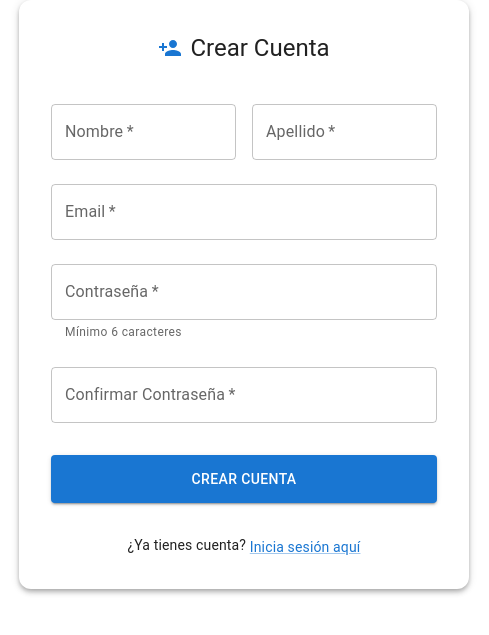
Register Component › muestra error si el email no es válido
Type "Juan" into the field labelled "Nombre *" at (144, 132), box x1=51 y1=104 x2=236 y2=160
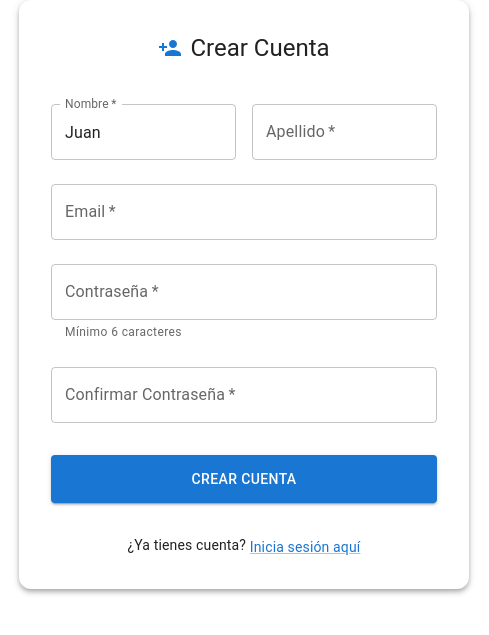
Type "Pérez" into the field labelled "Apellido *" at (344, 132), box x1=252 y1=104 x2=437 y2=160
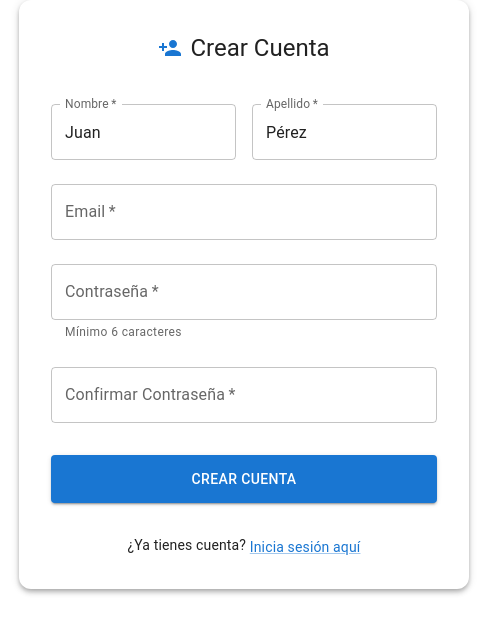
Type "juan@@com" into the field labelled "Email *" at (244, 212), box x1=51 y1=184 x2=437 y2=240
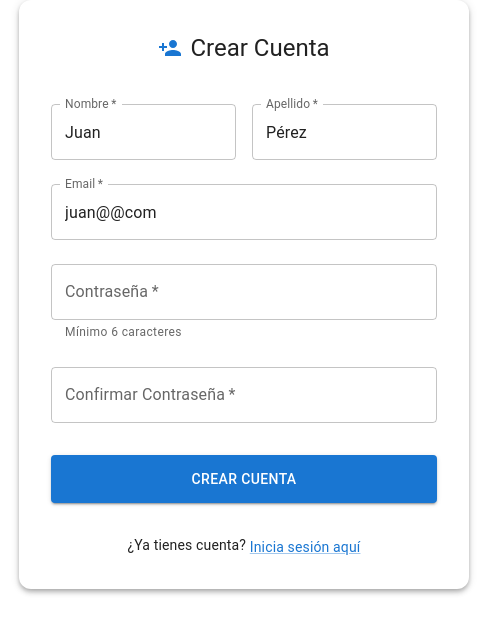
Type "123456" into the password field labelled "Contraseña *" at (244, 292), box x1=51 y1=264 x2=437 y2=320
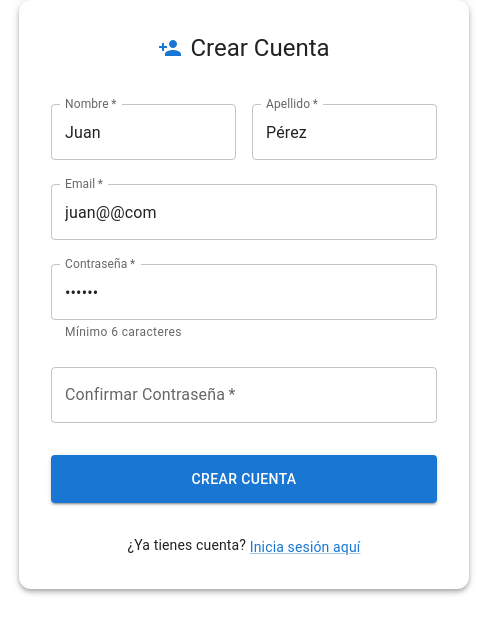
Type "123456" into the password field labelled "Confirmar Contraseña *" at (244, 395), box x1=51 y1=367 x2=437 y2=423
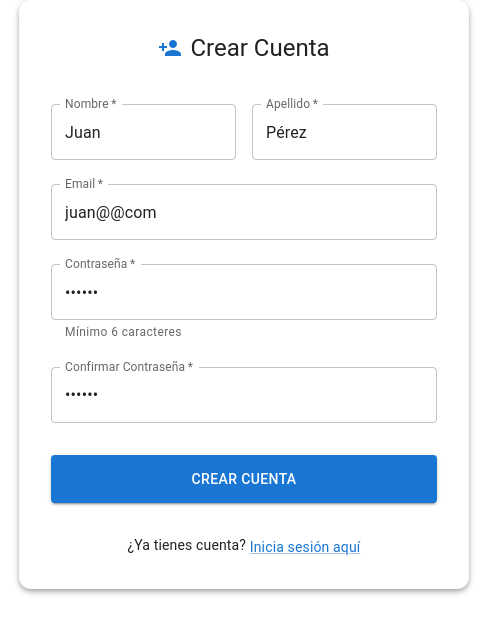
Submit the form from the button "Crear Cuenta", box x1=51 y1=455 x2=437 y2=503
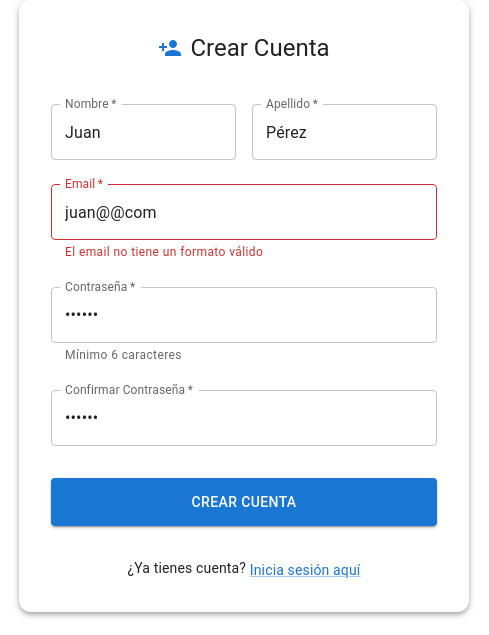
Expected: the text "El email no tiene un formato válido" is shown, x1=65 y1=245 x2=263 y2=259
